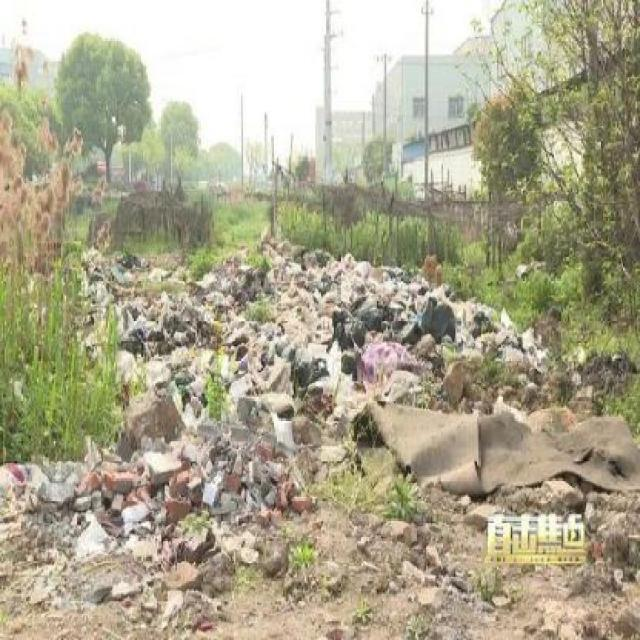garbage: (82, 248, 453, 358), (369, 416, 639, 493), (120, 356, 441, 410), (456, 297, 539, 370), (0, 454, 26, 500)
